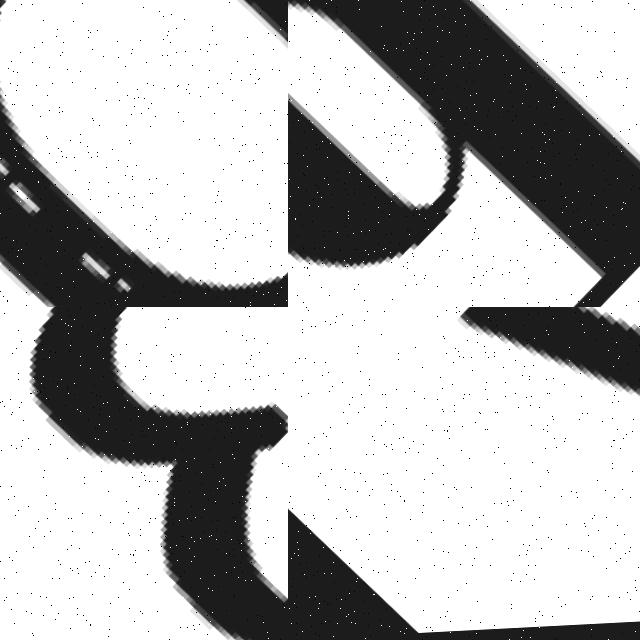0: (0, 0, 288, 307)
3: (0, 307, 288, 640)
I: (288, 307, 640, 604)
P: (288, 0, 640, 307)
